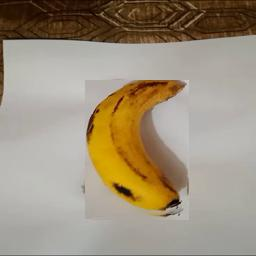Banana Semifresh: (85, 81, 189, 221)
